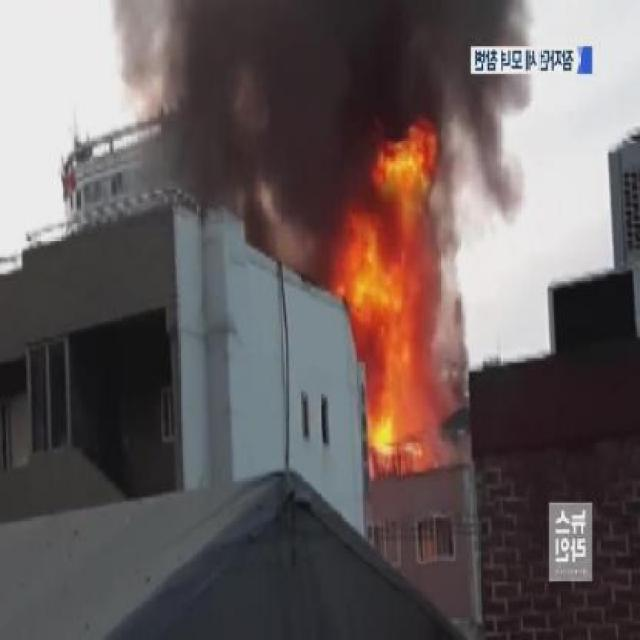Fire: (321, 126, 484, 467)
Smoke: (109, 2, 532, 225)
